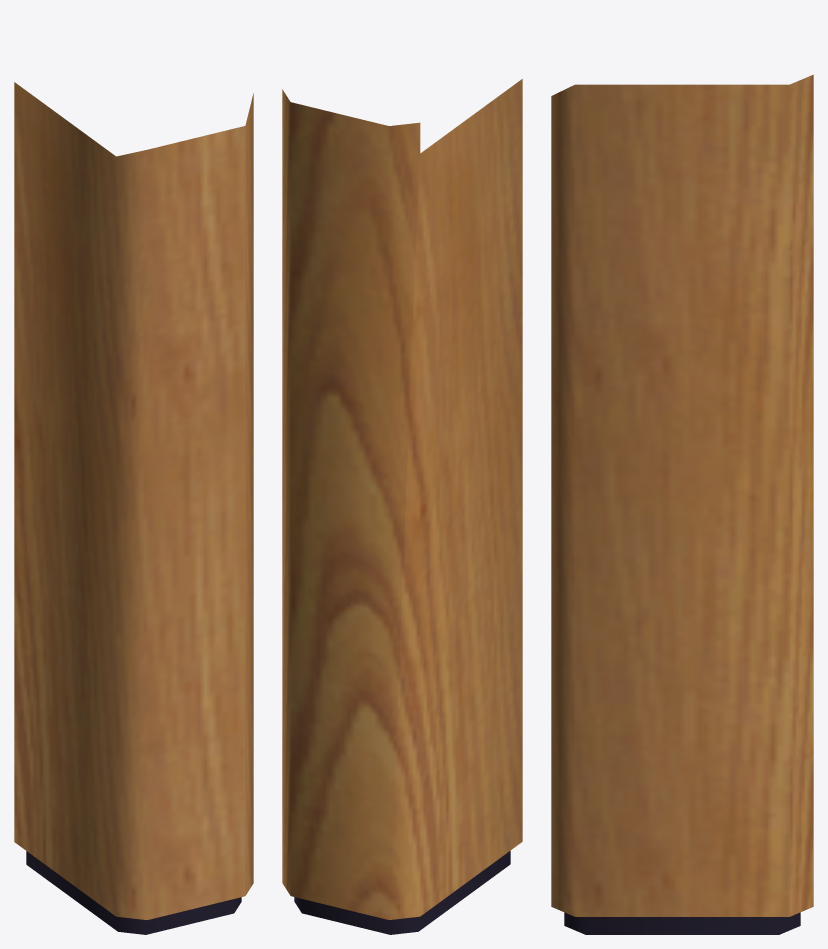
3 views of the same model, side by side, from view 1: azimuth 30°, elevation 25°; view 2: azimuth 150°, elevation 25°; view 3: azimuth 270°, elevation 25° (orthographic). The views are drawn at different scales.
Parts seen in each view (by area): view 1: Joint_0_Object_0, Joint_0_Object_1; view 2: Joint_0_Object_0, Joint_0_Object_1; view 3: Joint_0_Object_0, Joint_0_Object_1.
Part boxes in pixels (x1=…): Joint_0_Object_0: x1=14, y1=82, x2=253, y2=919; Joint_0_Object_1: x1=26, y1=851, x2=241, y2=934; Joint_0_Object_0: x1=282, y1=79, x2=522, y2=919; Joint_0_Object_1: x1=294, y1=851, x2=510, y2=934; Joint_0_Object_0: x1=551, y1=74, x2=813, y2=916; Joint_0_Object_1: x1=564, y1=912, x2=800, y2=934.
Bounding box in the file's own units: 70 × 395 × 110.
2 materials, 2 textured.
